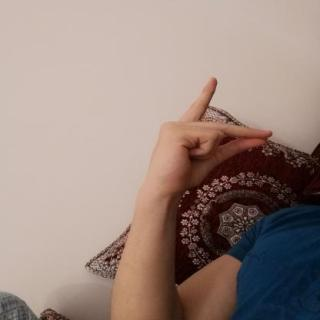TAA: (136, 71, 280, 201)
